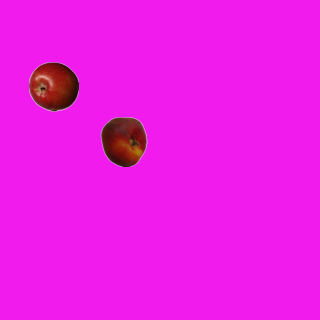Apple Braeburn: (28, 61, 78, 111)
Nectarine Flat: (98, 116, 148, 166)
